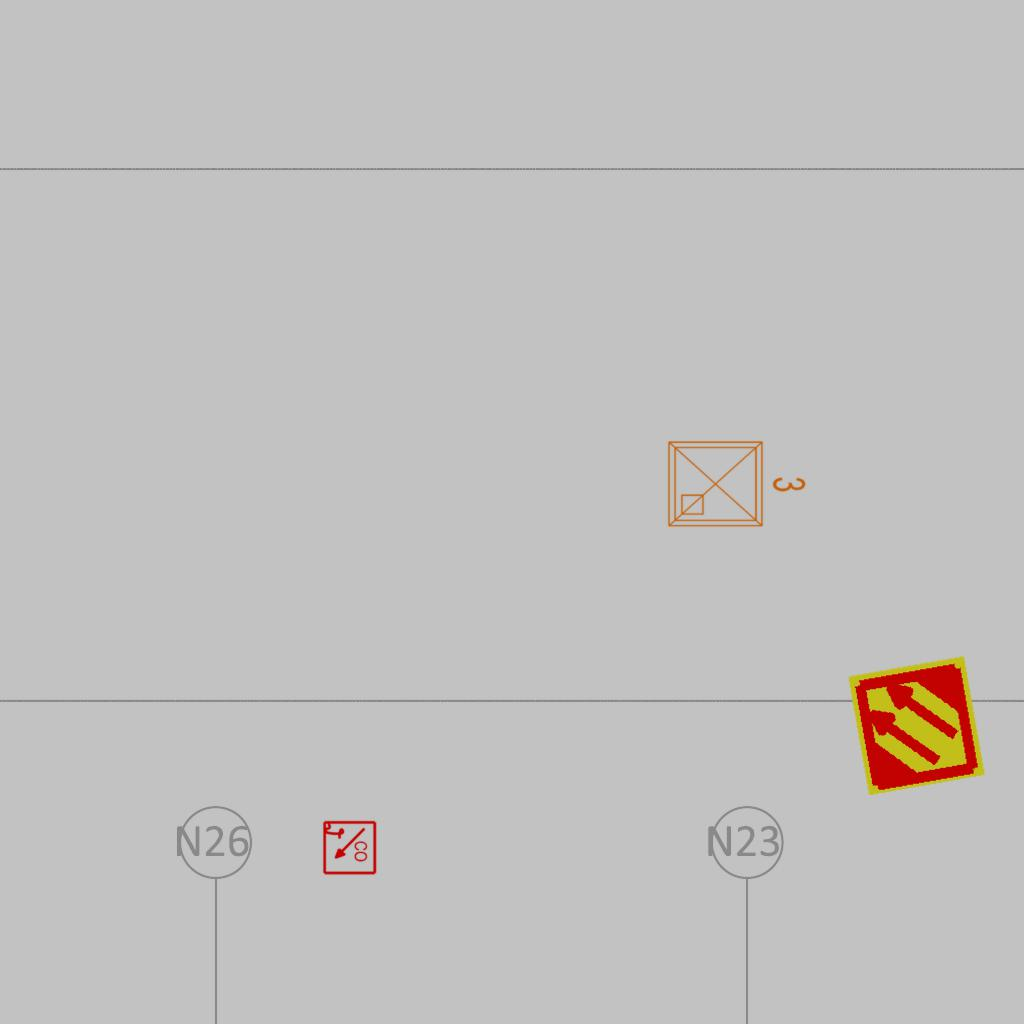ASR_Ansaugrauchmelder: (844, 653, 989, 798)
Einbaudownlights_LED_Konferenzraeume: (661, 430, 811, 534)
ROA_Rauchmelder_optisch_mit_Signalgeber_(Sockelsirene): (321, 820, 377, 876)
